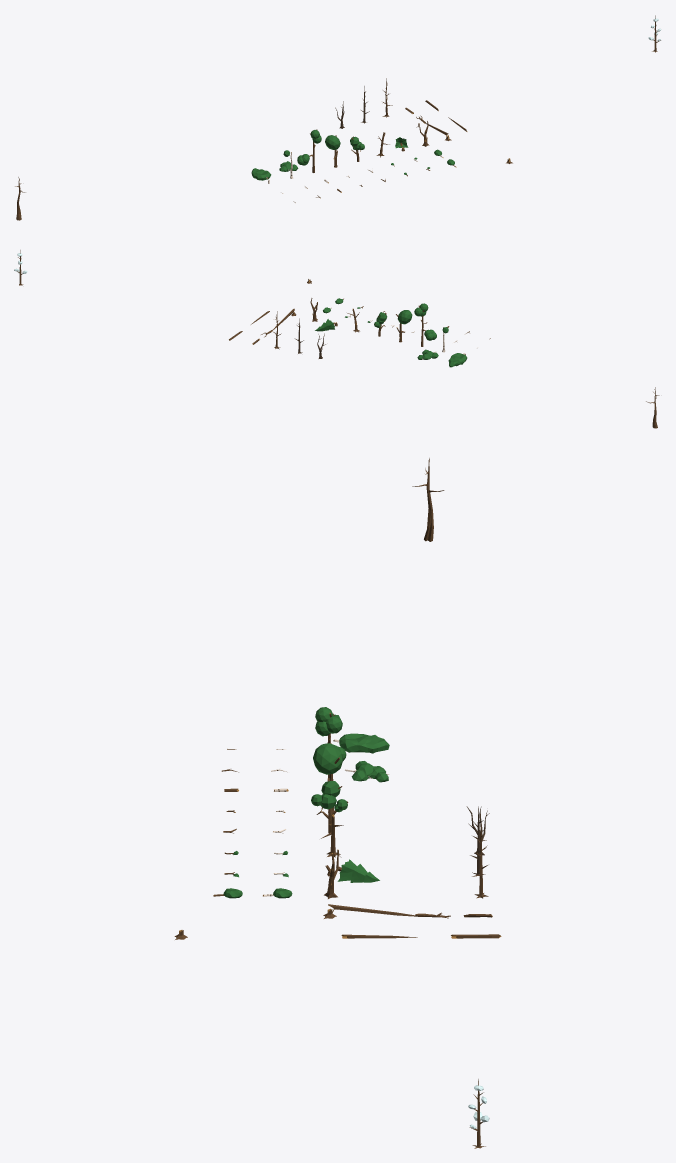
Rendered from nature_trees_dead_m.fbx.
3 views of the same model, one above another, from view 1: azimuth 30°, elevation 25°; view 2: azimuth 150°, elevation 25°; view 3: azimuth 270°, elevation 25° (orthographic). The views are drawn at different scales.
Parts seen in each view (by area): view 1: tree_torn_b; view 2: tree_torn_b; view 3: no part large enough to name.
Boxes of the visible parts, left/top/right/bottom form: tree_torn_b: left=297, top=129, right=321, bottom=172; tree_torn_b: left=414, top=303, right=436, bottom=346.
Size of the model in its own units: 189 by 12.13 by 42.38.
